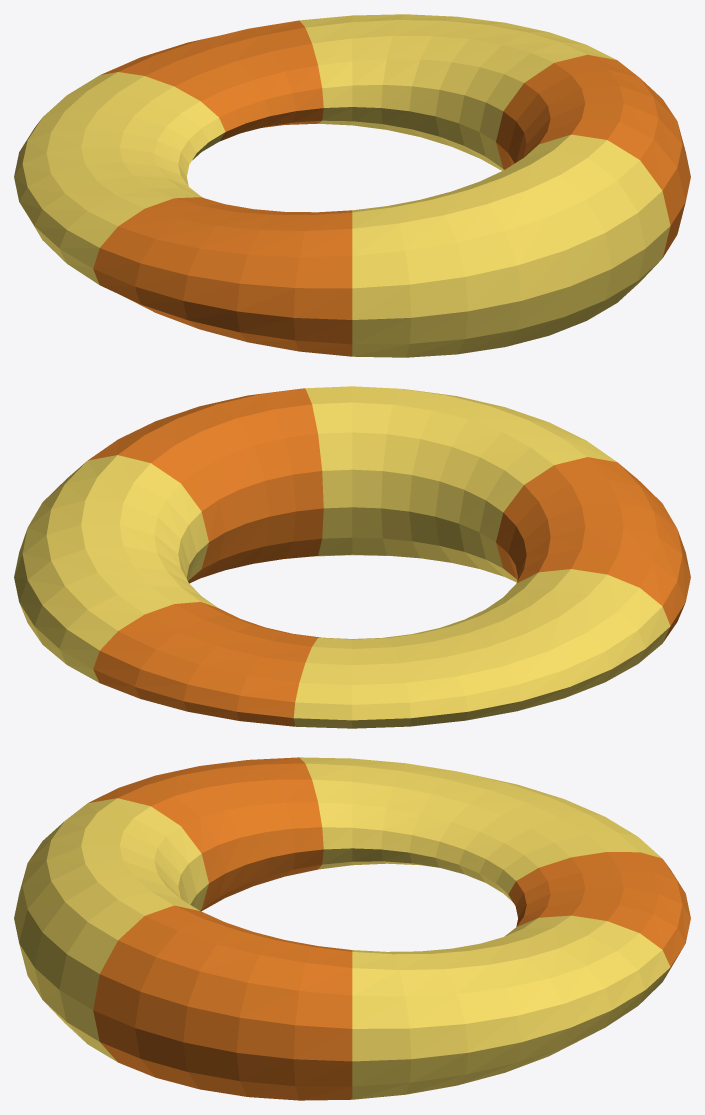
The model's file is boia_piscina.glb.
The picture shows the model from 3 angles, top to bottom: view 1: azimuth 30°, elevation 25°; view 2: azimuth 150°, elevation 25°; view 3: azimuth 270°, elevation 25°; orthographic projection.
Parts seen in each view (by area): view 1: boia_piscina_tinta_amarela, boia_piscina_laranja_boia; view 2: boia_piscina_tinta_amarela, boia_piscina_laranja_boia; view 3: boia_piscina_tinta_amarela, boia_piscina_laranja_boia.
Part boxes in pixels (x1=…): boia_piscina_tinta_amarela: x1=14, y1=14, x2=670, y2=357; boia_piscina_laranja_boia: x1=93, y1=20, x2=690, y2=356; boia_piscina_tinta_amarela: x1=14, y1=386, x2=670, y2=728; boia_piscina_laranja_boia: x1=88, y1=388, x2=690, y2=726; boia_piscina_tinta_amarela: x1=14, y1=757, x2=670, y2=1099; boia_piscina_laranja_boia: x1=88, y1=757, x2=690, y2=1100.
Bounding box in the file's own units: 0.94 × 0.2339 × 0.94.
